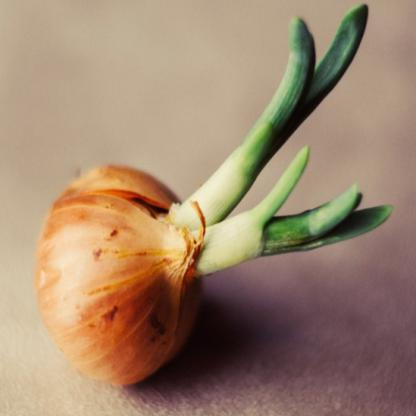onion: (52, 147, 198, 405)
